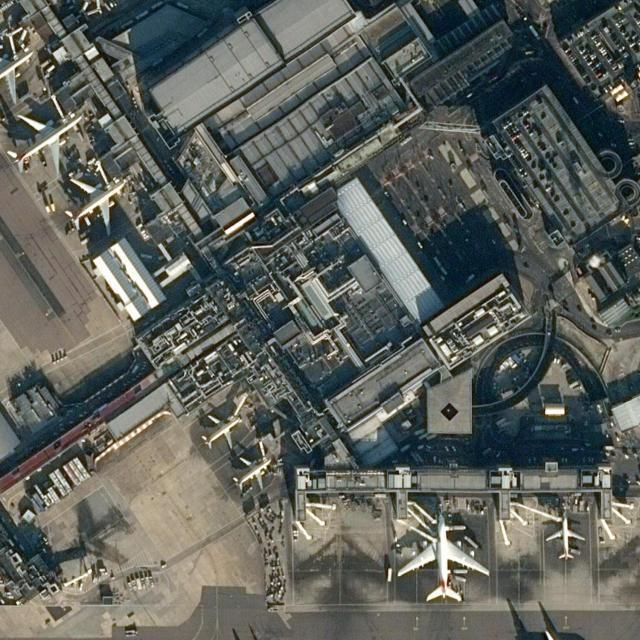Aircraft: (395, 511, 489, 603), (5, 110, 85, 176), (62, 174, 128, 235), (0, 43, 35, 104), (544, 513, 584, 561), (199, 411, 242, 450), (231, 453, 273, 491), (539, 628, 557, 640)
